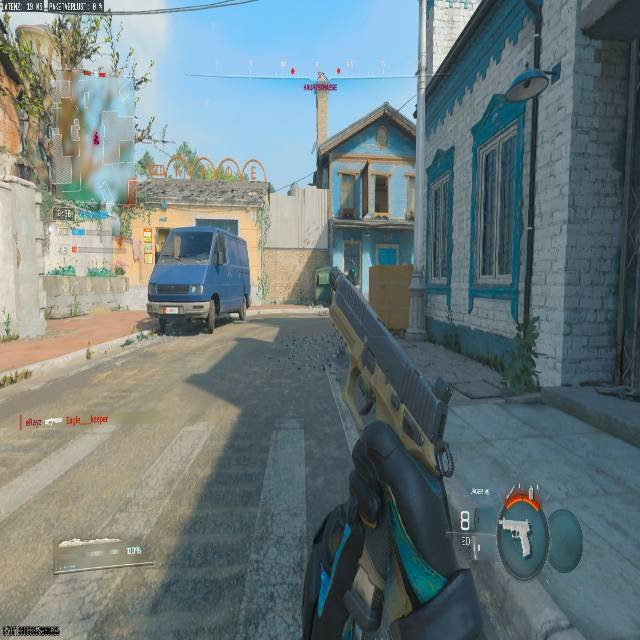player: (328, 265, 341, 293)
